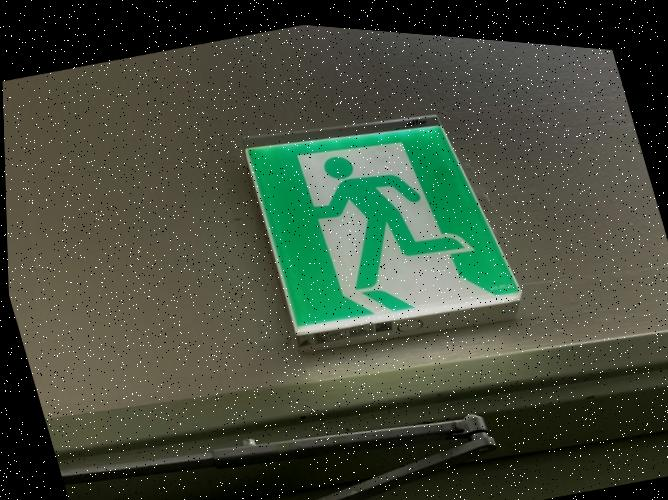emergency_exit: (243, 116, 523, 340)
